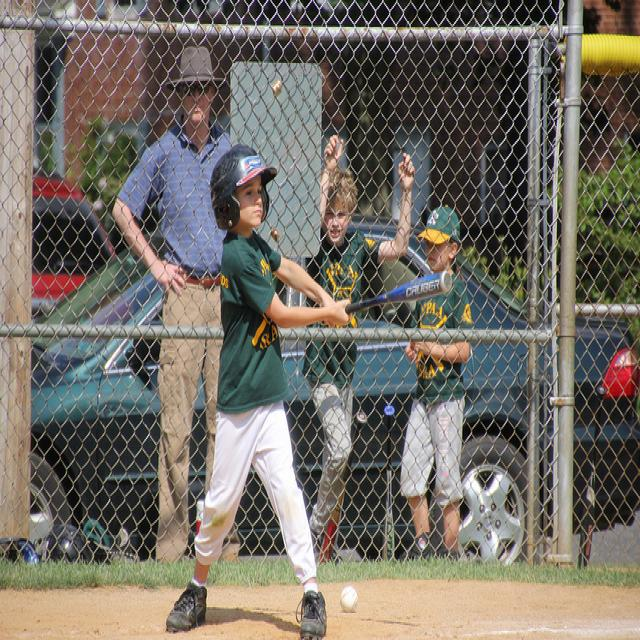Vehicle: (27, 258, 639, 575), (30, 174, 118, 319)
